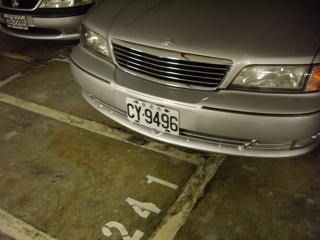plate: (123, 95, 183, 140)
